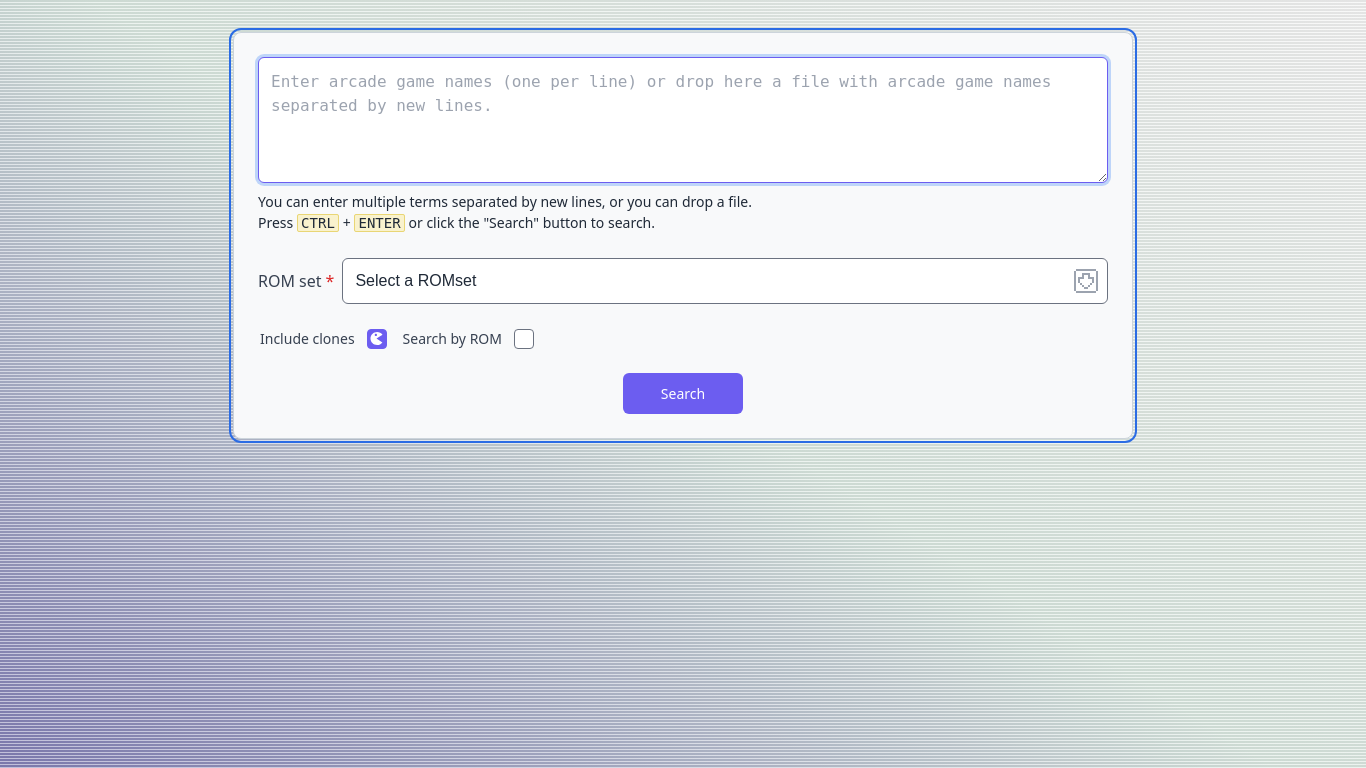
SearchForm › Form Validation › should show error when search term is too short
// Type into an input element
Step 1. Type "a" into the text box named "Arcade Game Names*" → (683, 120), box [258,57,1108,183]
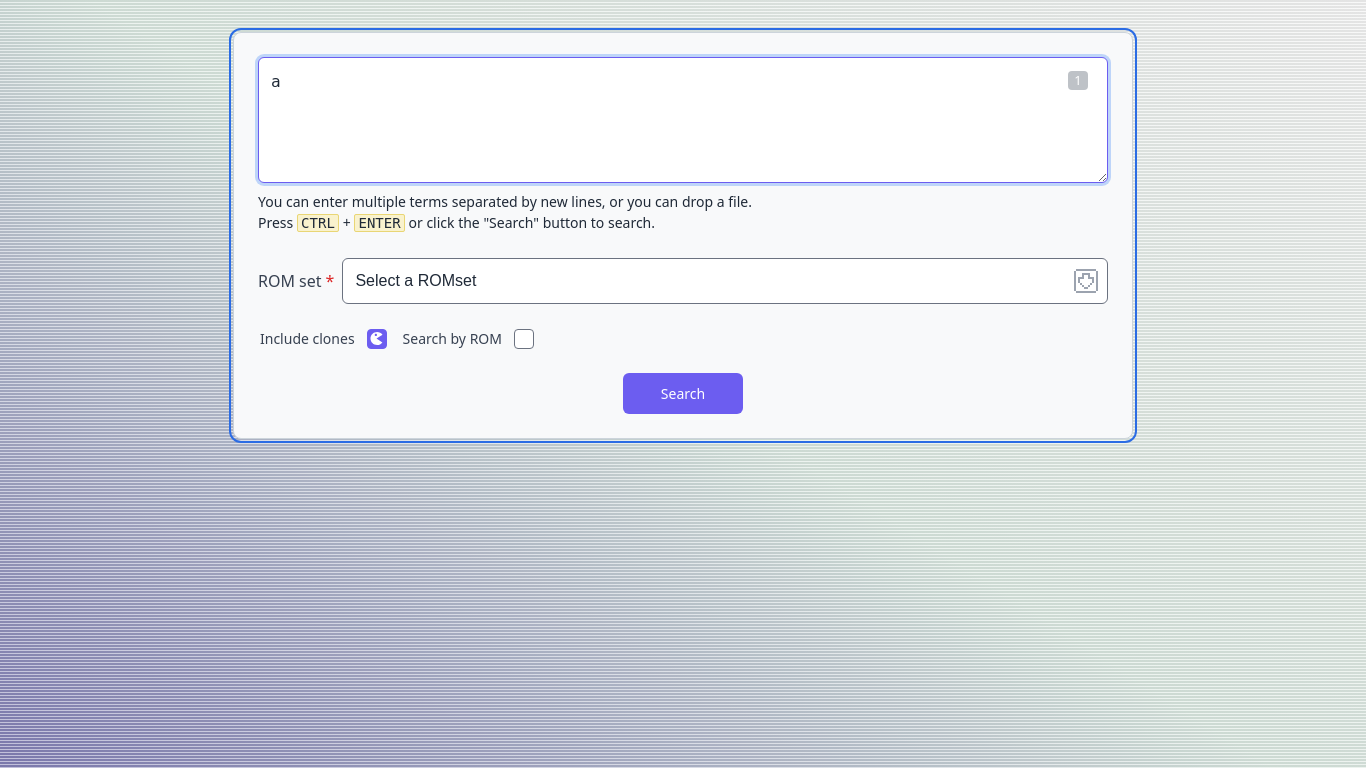
Step 2. Submit the form, box [233,32,1133,439]
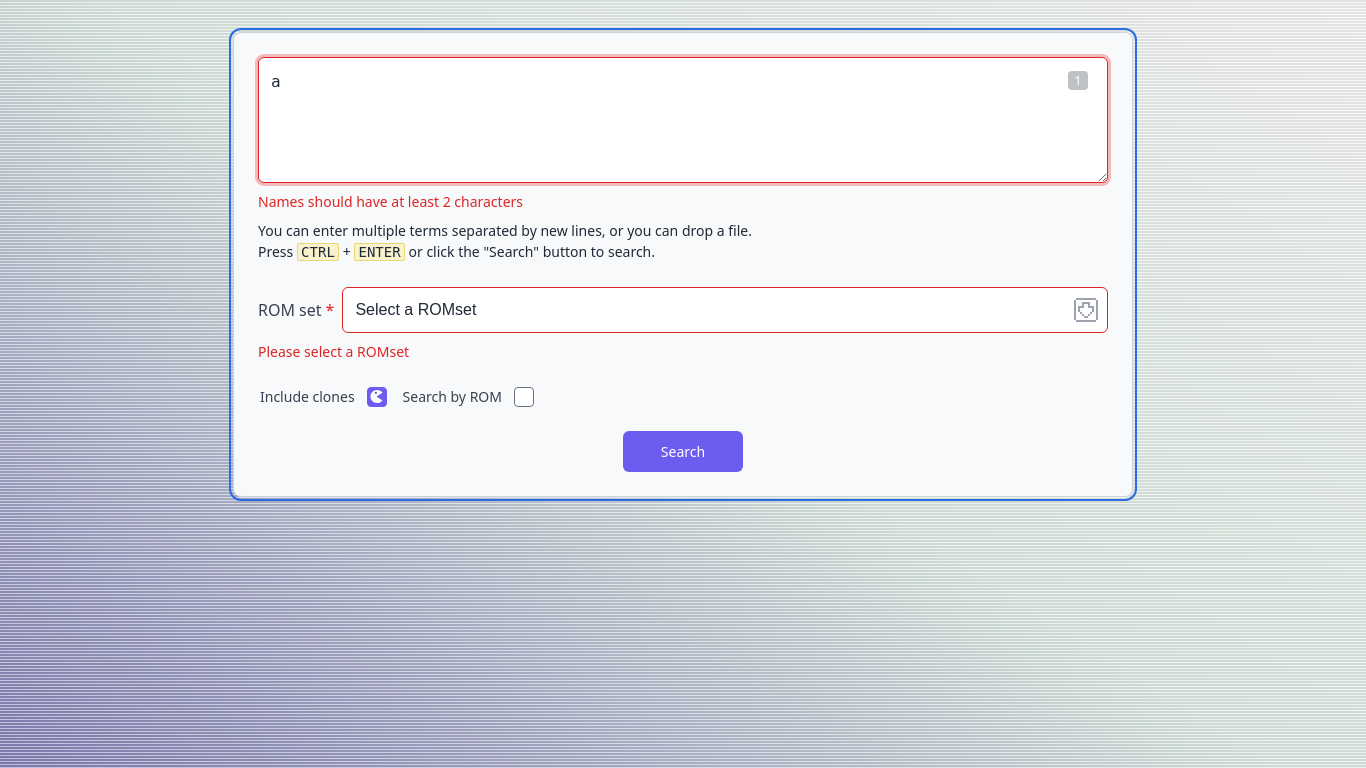
Expected: the text "Names should have at least 2 characters" is shown, [258,192,523,211]
